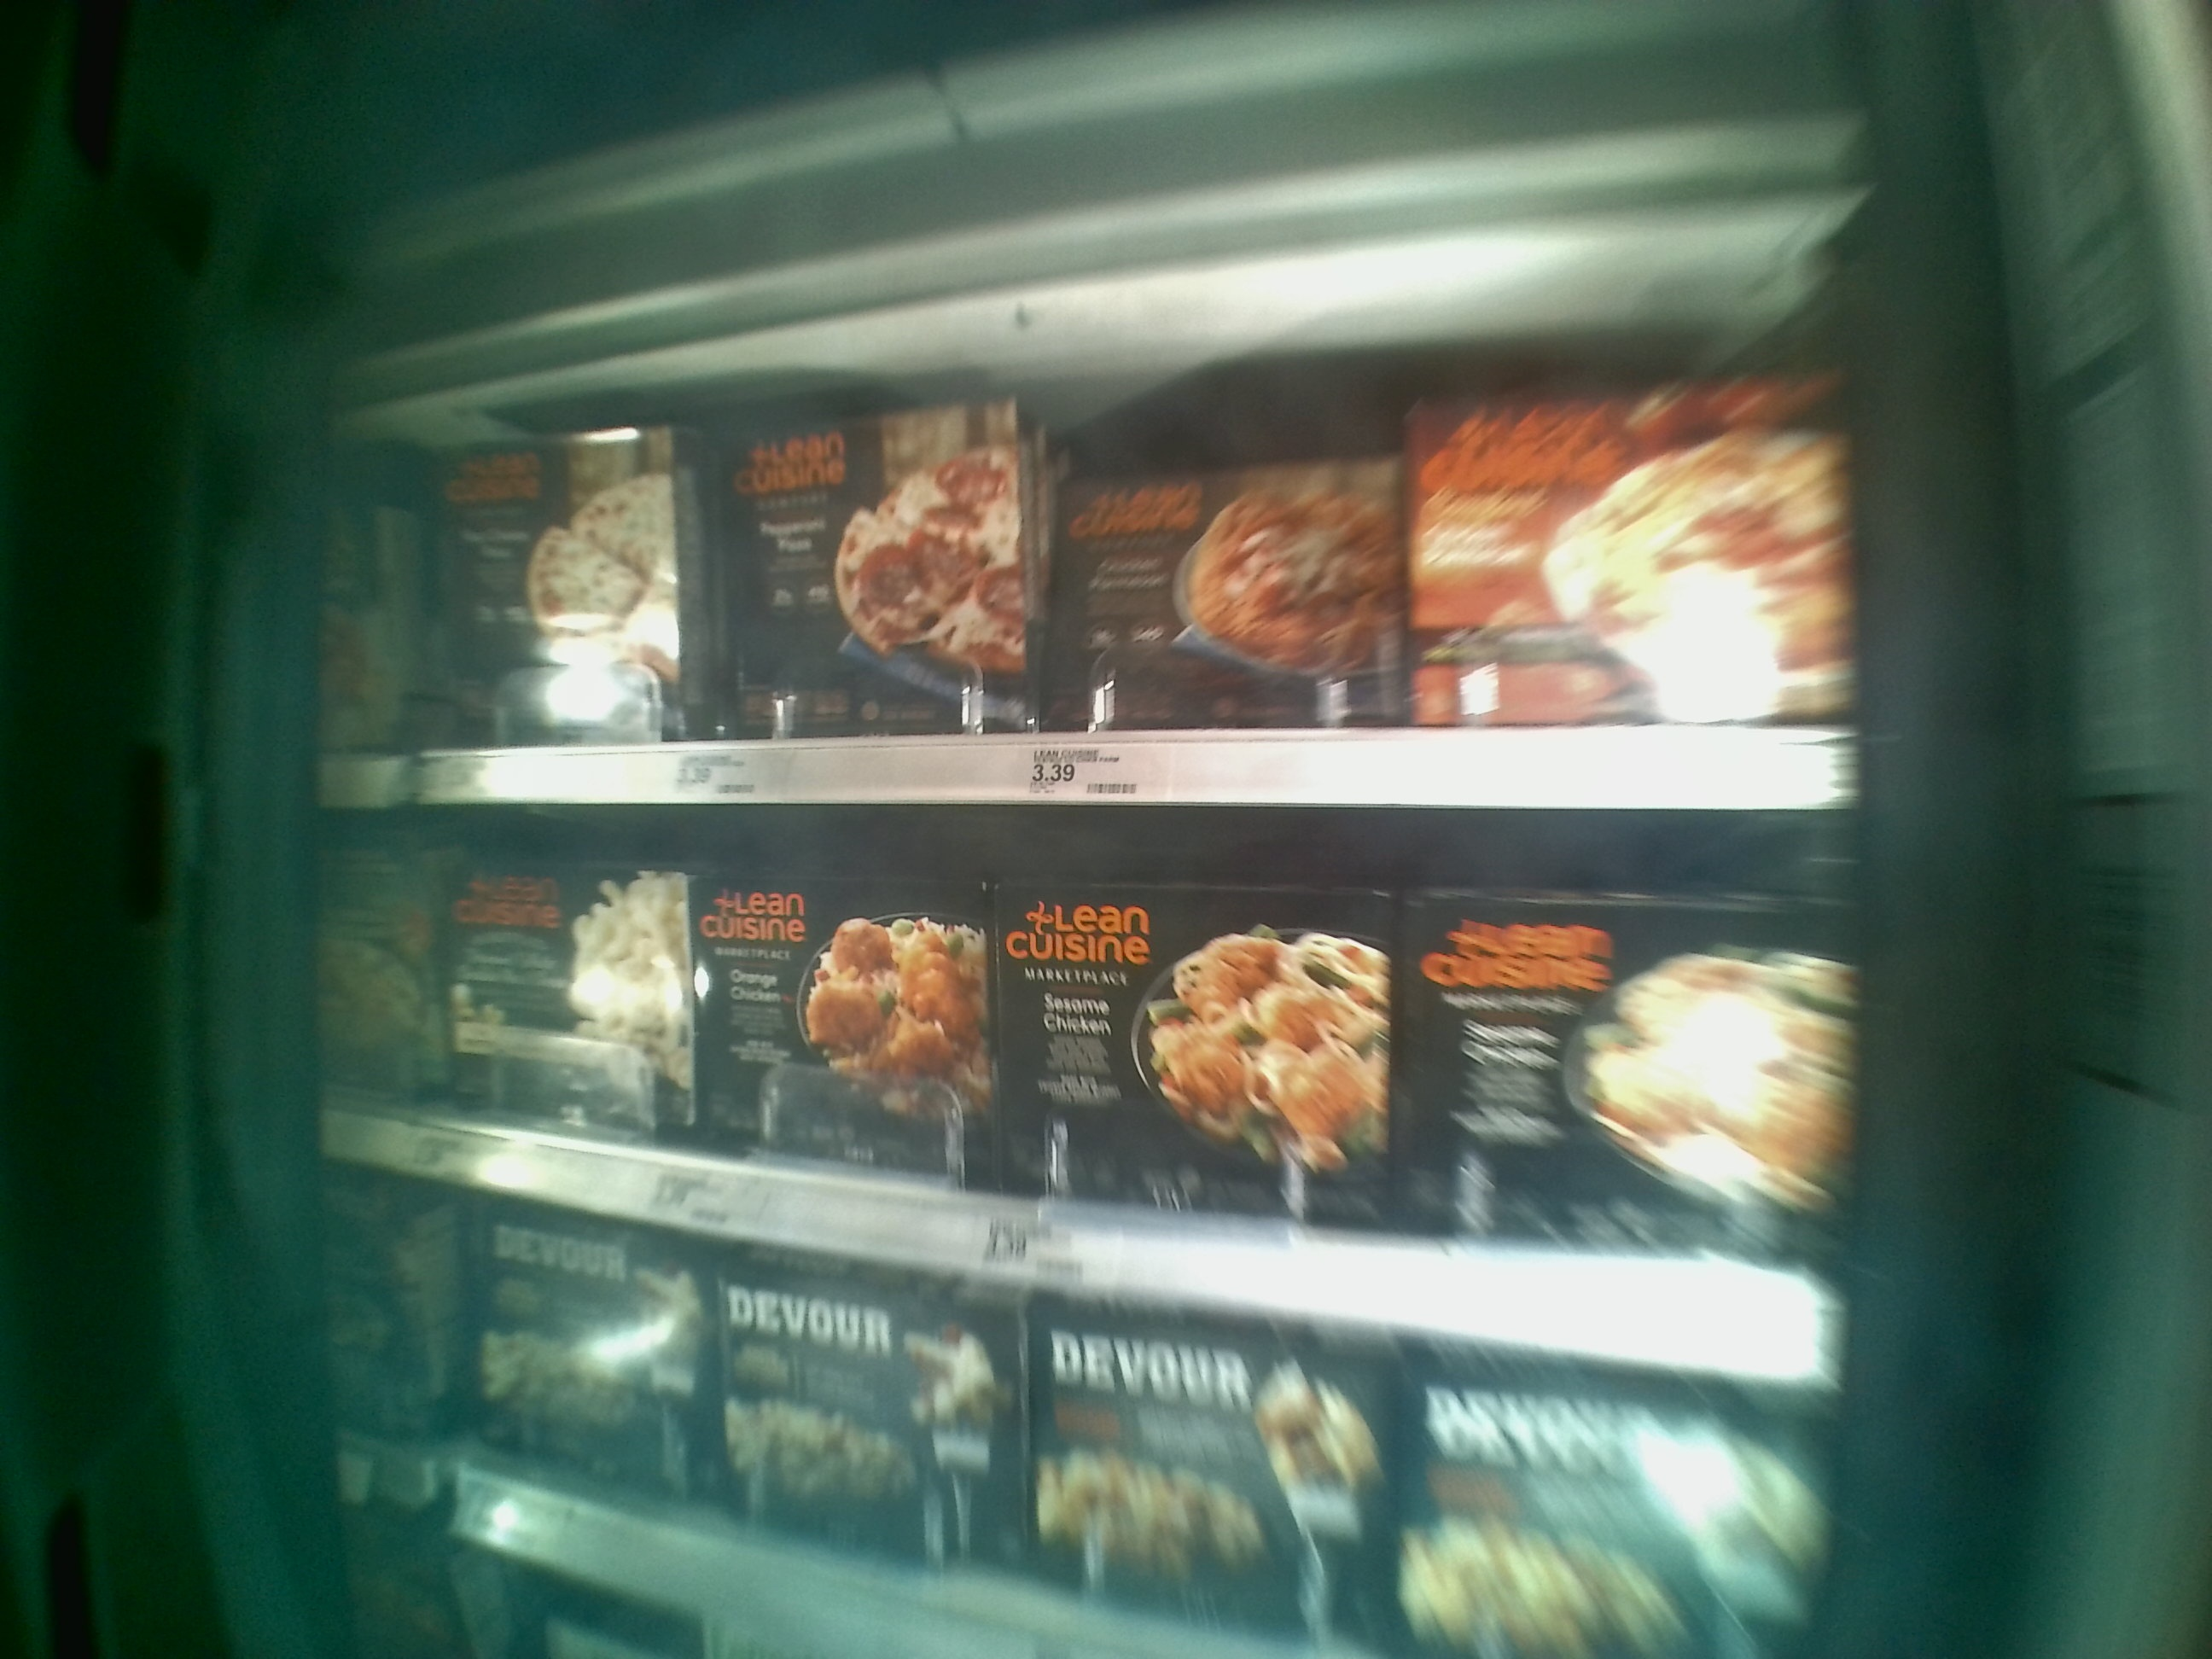shelf: (314, 230, 1862, 807), (326, 807, 1851, 1293)
